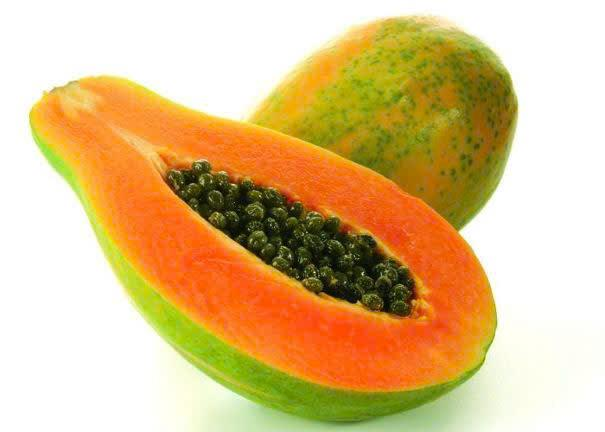papaya: (26, 71, 502, 419)
